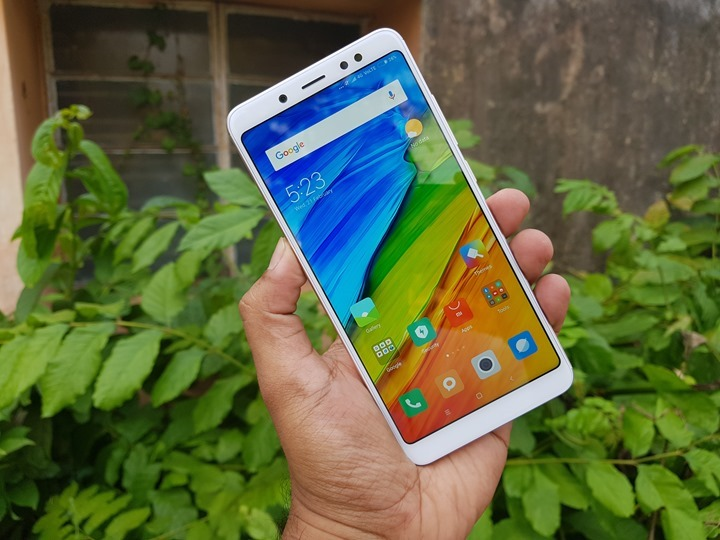mobile: (219, 20, 590, 540)
